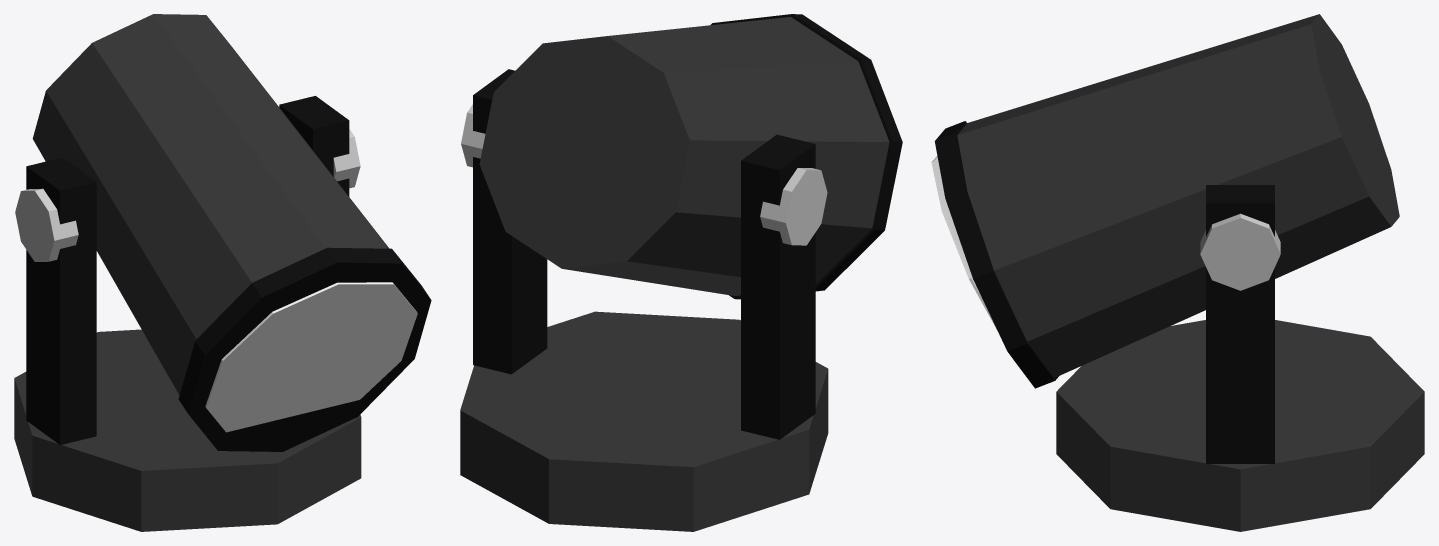
The model's file is SearchlightHousing.obj.
The picture shows the model from 3 angles, left to right: view 1: azimuth 30°, elevation 25°; view 2: azimuth 150°, elevation 25°; view 3: azimuth 270°, elevation 25°; orthographic projection. The views are drawn at different scales.
Parts seen in each view (by area): view 1: SearchlightHousing; view 2: SearchlightHousing; view 3: SearchlightHousing.
Part boxes in pixels (<box>): SearchlightHousing: <box>14,14,431,531</box>; SearchlightHousing: <box>460,14,902,531</box>; SearchlightHousing: <box>931,14,1424,531</box>.
Bounding box in the file's own units: 0.64 × 0.8246 × 0.8574.
Materials: 1 (1 with a texture image).
